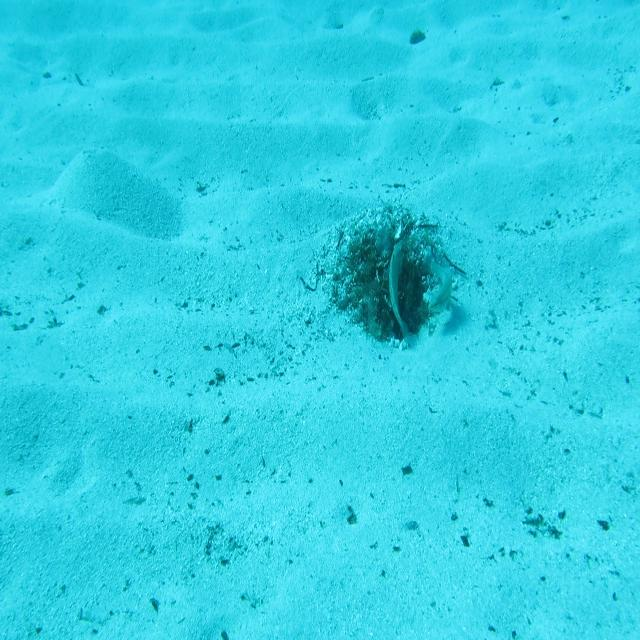BEND: (384, 232, 416, 346)
female: (421, 244, 455, 318)
nest: (331, 196, 452, 353)
